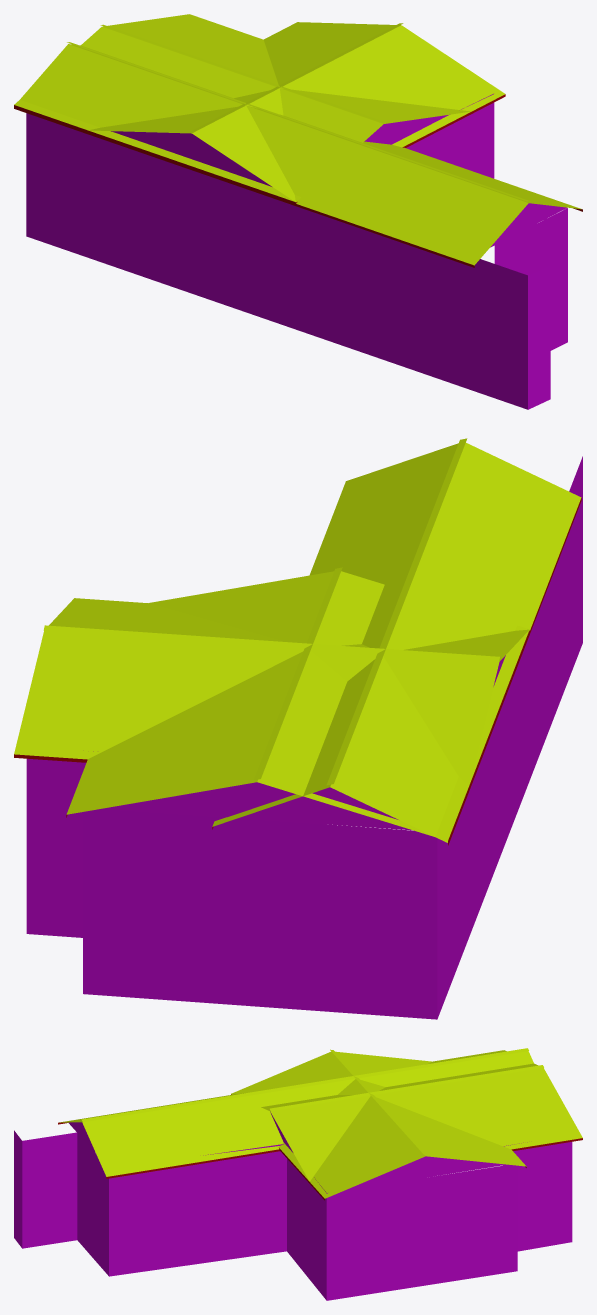
The model's file is scl_25.glb.
3 views of the same model, one above another, from view 1: azimuth 30°, elevation 25°; view 2: azimuth 150°, elevation 25°; view 3: azimuth 270°, elevation 25° (orthographic). The views are drawn at different scales.
Visible parts, largest first — view 1: scl_25; view 2: scl_25; view 3: scl_25.
Part boxes in pixels (x1=…): scl_25: x1=14, y1=14, x2=582, y2=409; scl_25: x1=14, y1=438, x2=582, y2=1019; scl_25: x1=14, y1=1048, x2=582, y2=1300.
Size of the model in its own units: 19.42 by 8.19 by 31.4.
